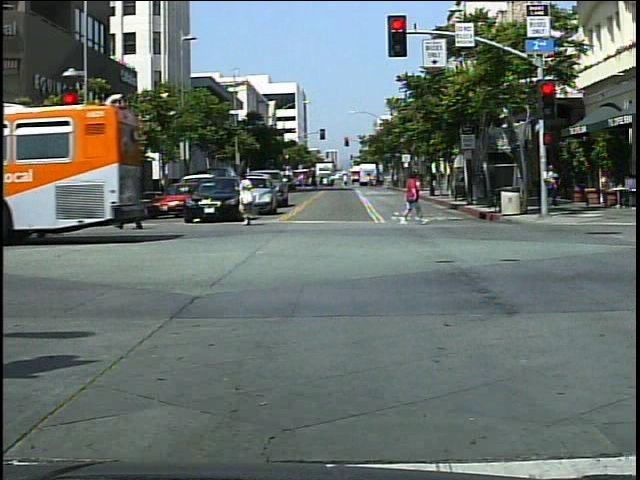person: (234, 166, 265, 230), (120, 170, 149, 236), (399, 166, 428, 230), (546, 161, 568, 212)
